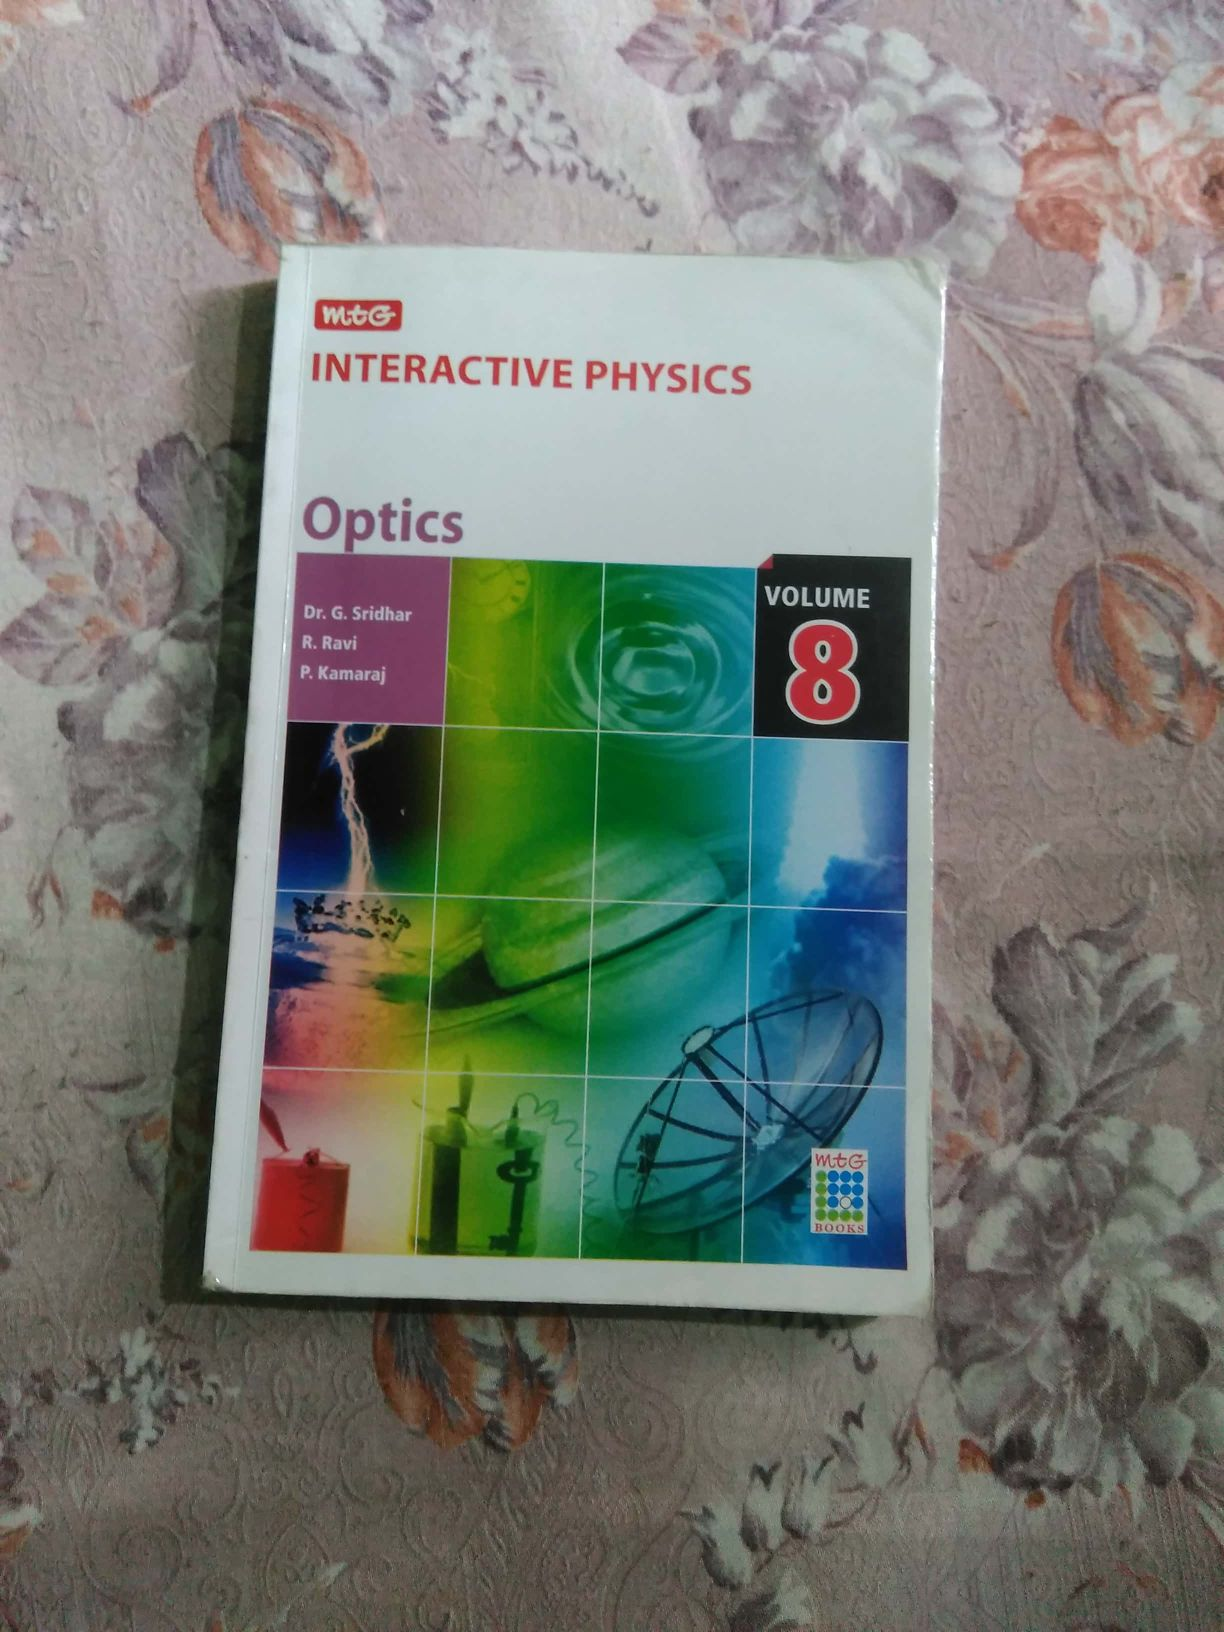optics: (176, 224, 1041, 1334)
